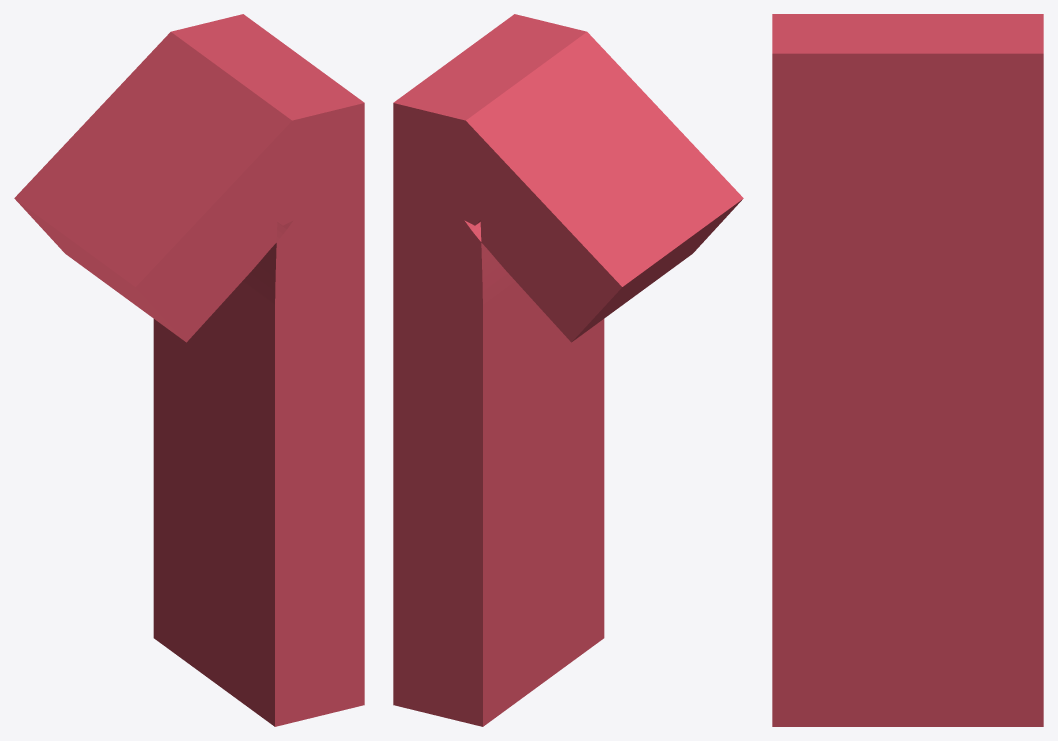
Rendered from One.fbx.
3 views of the same model, side by side, from view 1: azimuth 30°, elevation 25°; view 2: azimuth 150°, elevation 25°; view 3: azimuth 270°, elevation 25° (orthographic). The views are drawn at different scales.
Visible parts, largest first — view 1: tinker2:group_0_15277357; view 2: tinker2:group_0_15277357; view 3: tinker2:group_0_15277357.
Boxes of the visible parts, left/top/right/bottom form: tinker2:group_0_15277357: left=14, top=14, right=364, bottom=726; tinker2:group_0_15277357: left=393, top=14, right=743, bottom=726; tinker2:group_0_15277357: left=772, top=14, right=1043, bottom=726.
Bounding box in the file's own units: 8.24 × 20.69 × 7.56.
